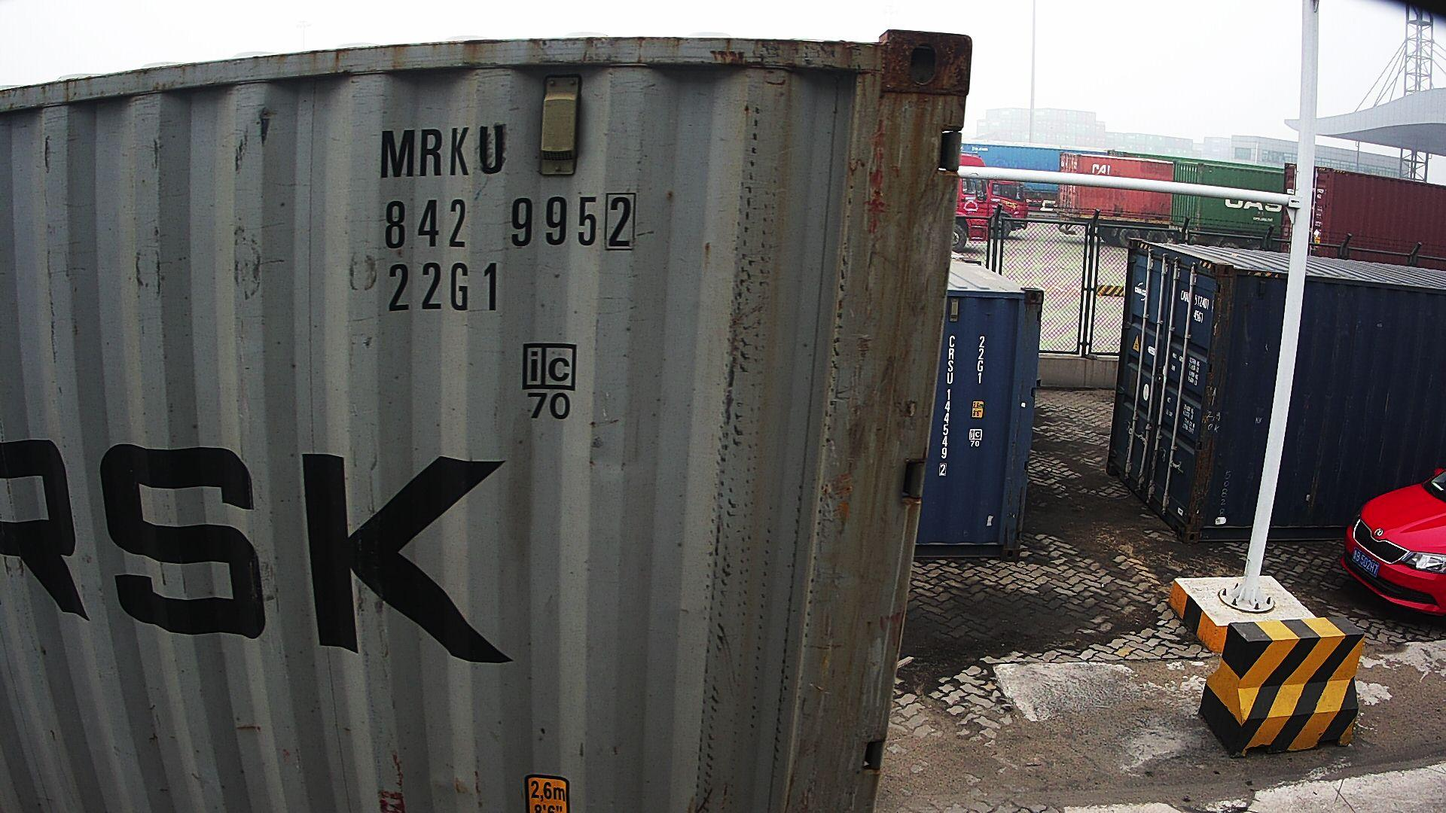container-numbers: (377, 189, 641, 255), (375, 121, 511, 183), (381, 257, 505, 316), (933, 333, 957, 480), (975, 332, 989, 386)
